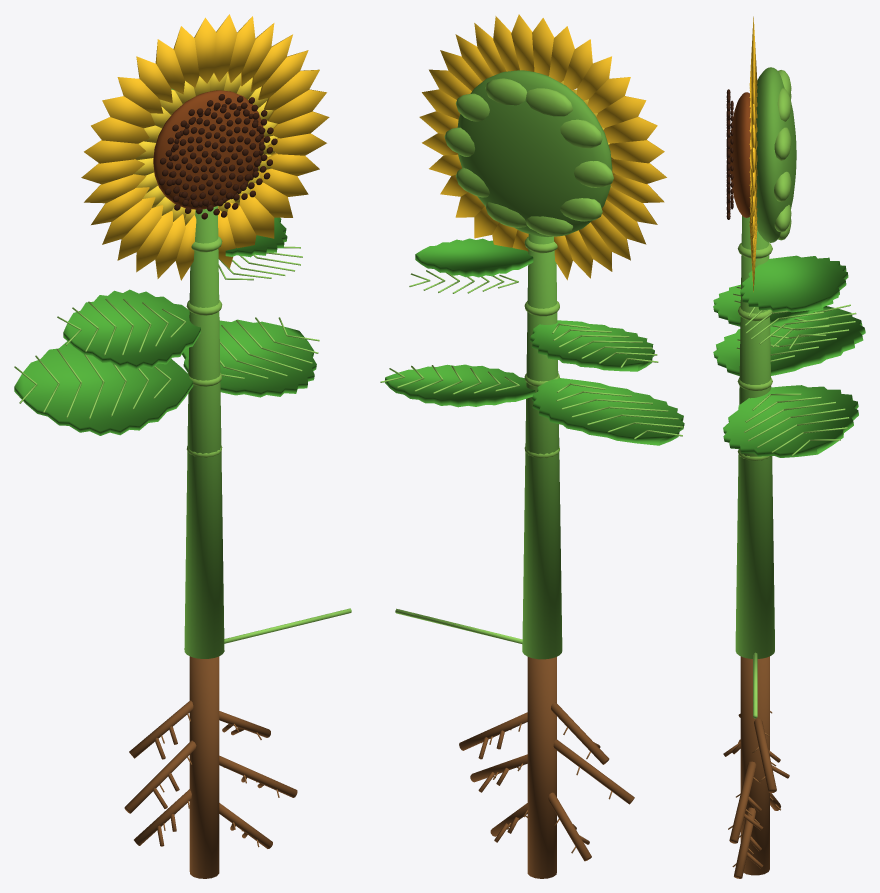
The model's file is bunga_matahari.glb.
3 renders of one model, left to right at view 1: azimuth 30°, elevation 25°; view 2: azimuth 150°, elevation 25°; view 3: azimuth 270°, elevation 25°, orthographic.
Parts seen in each view (by area): view 1: STEM_MAIN, LEAF_MAIN, LEAF_04, ROOT_MAIN, FLOWER_CENTER, LEAF_03, PETAL_OUTER_15, PETAL_OUTER_09, PETAL_OUTER_16, PETAL_OUTER_21, PETAL_OUTER_08, PETAL_OUTER_14 (+29 smaller); view 2: FLOWER_BACK, STEM_MAIN, LEAF_MAIN, ROOT_MAIN, LEAF_03, LEAF_04, LEAF_05, CALYX_04, PETAL_OUTER_15, PETAL_OUTER_14, PETAL_OUTER_16, PETAL_OUTER_09 (+31 smaller); view 3: STEM_MAIN, LEAF_03, LEAF_05, LEAF_MAIN, ROOT_MAIN, FLOWER_BACK, FLOWER_CENTER, LEAF_04, ROOT_LATERAL_04, ROOT_LATERAL_02, ROOT_LATERAL_06, CALYX_02 (+2 smaller).
Part boxes in pixels (x1,y1,x2,y2): STEM_MAIN: (184, 206, 224, 658); LEAF_MAIN: (14, 341, 193, 435); LEAF_04: (63, 289, 200, 369); ROOT_MAIN: (189, 656, 219, 878); FLOWER_CENTER: (153, 90, 264, 209); LEAF_03: (182, 319, 316, 397); PETAL_OUTER_15: (91, 117, 149, 143); PETAL_OUTER_09: (194, 17, 216, 83); PETAL_OUTER_16: (84, 140, 145, 163); PETAL_OUTER_21: (117, 205, 163, 260); PETAL_OUTER_08: (214, 14, 237, 81); PETAL_OUTER_14: (102, 96, 155, 128); FLOWER_BACK: (457, 70, 612, 236); STEM_MAIN: (522, 234, 562, 659); LEAF_MAIN: (532, 378, 684, 445); ROOT_MAIN: (527, 657, 556, 878); LEAF_03: (385, 364, 535, 407); LEAF_04: (530, 320, 654, 371); LEAF_05: (415, 238, 533, 277); CALYX_04: (526, 88, 572, 116); PETAL_OUTER_15: (603, 116, 657, 143); PETAL_OUTER_14: (596, 96, 646, 127); PETAL_OUTER_16: (608, 140, 664, 163); PETAL_OUTER_09: (532, 18, 554, 76); STEM_MAIN: (735, 215, 774, 658); LEAF_03: (723, 385, 858, 457); LEAF_05: (740, 255, 848, 312); LEAF_MAIN: (713, 306, 865, 375); ROOT_MAIN: (740, 656, 769, 875); FLOWER_BACK: (756, 67, 796, 242); FLOWER_CENTER: (730, 92, 750, 217); LEAF_04: (713, 284, 838, 326); ROOT_LATERAL_04: (729, 761, 756, 843); ROOT_LATERAL_02: (754, 719, 776, 793); ROOT_LATERAL_06: (734, 807, 755, 878); CALYX_02: (774, 127, 791, 160).
Size of the model in its own units: 4.08 by 10.79 by 1.77.
